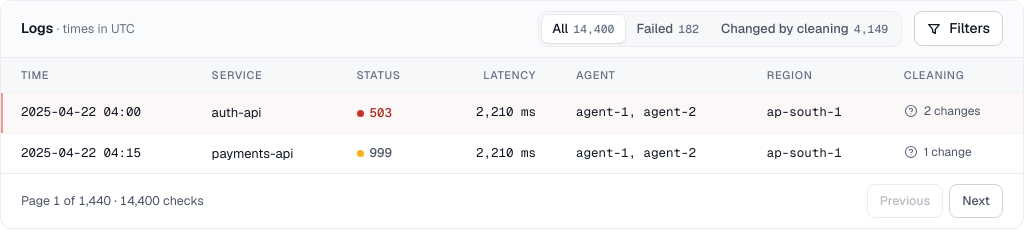
it: Logs panel › Next follows the cursor, keeps the counts; Previous goes back
Expected: the text "Page 1 of 1,440 · 14,400 checks" is shown, [21,192,204,210]
Click the button "Next".
click(976, 201)  # box [949,184,1003,218]
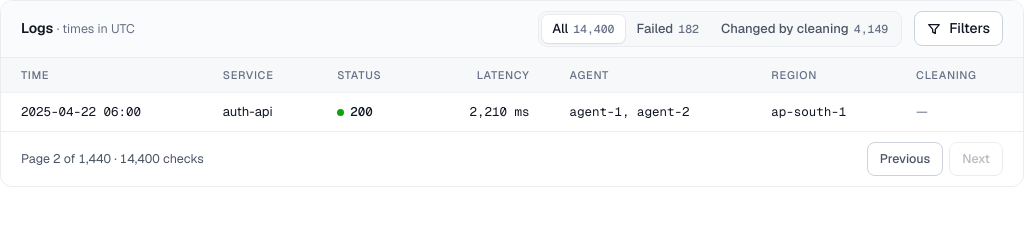
Result: the text "2025-04-22 06:00" is shown at [1,92,203,131]
Result: the text "Page 2 of 1,440 · 14,400 checks" is shown at [21,150,204,168]
Click the button "Previous".
click(905, 159)  # box [867,142,943,176]
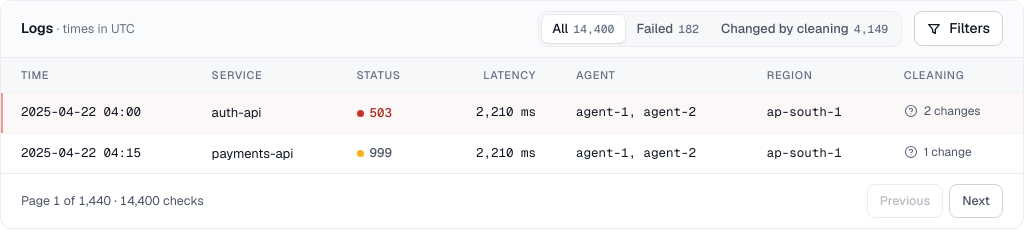
Result: the text "Page 1 of 1,440 · 14,400 checks" is shown at [21,192,204,210]
